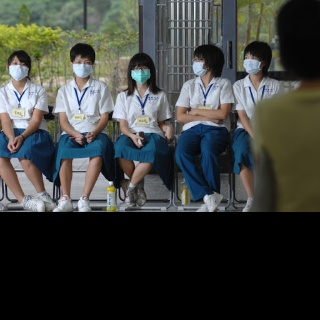with_mask: (8, 59, 28, 81), (242, 54, 261, 75), (72, 58, 91, 78), (131, 65, 150, 85), (191, 57, 207, 76)
